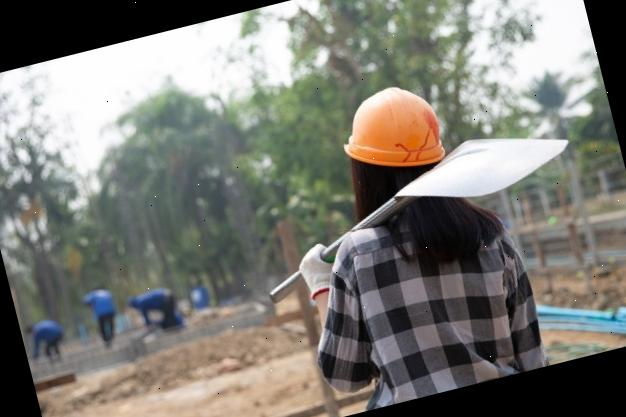helmet: (332, 74, 452, 181)
no_wear: (328, 193, 539, 407)
